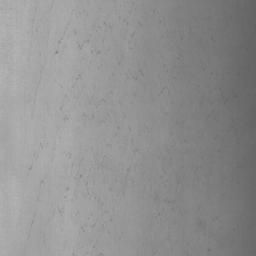Silk spot: (64, 152, 106, 205), (76, 22, 112, 69), (27, 142, 55, 176), (82, 96, 112, 123), (54, 24, 77, 55), (79, 215, 112, 234), (152, 195, 175, 220), (72, 240, 104, 256), (119, 16, 142, 37)
